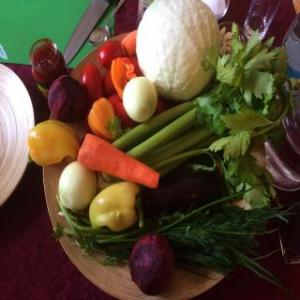beet: (126, 228, 180, 296)
bell_pepper: (83, 178, 145, 240), (18, 122, 82, 170)
cabbage: (133, 1, 220, 103)
carrot: (78, 134, 160, 188)
garlic: (216, 24, 232, 58)
onion: (57, 156, 95, 212), (122, 72, 156, 124)
tomato: (81, 60, 103, 103), (100, 34, 126, 66)
